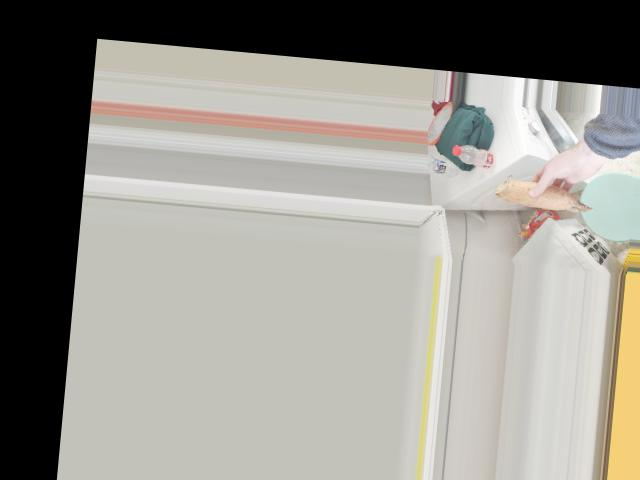sweet_potato: (503, 175, 588, 211)
